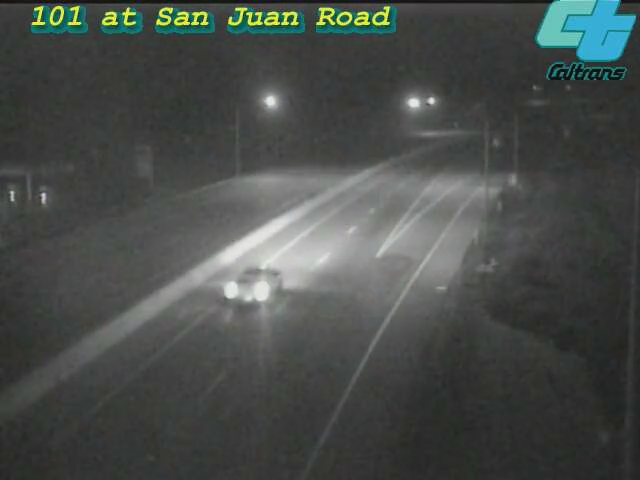vehicle: (216, 244, 296, 324)
